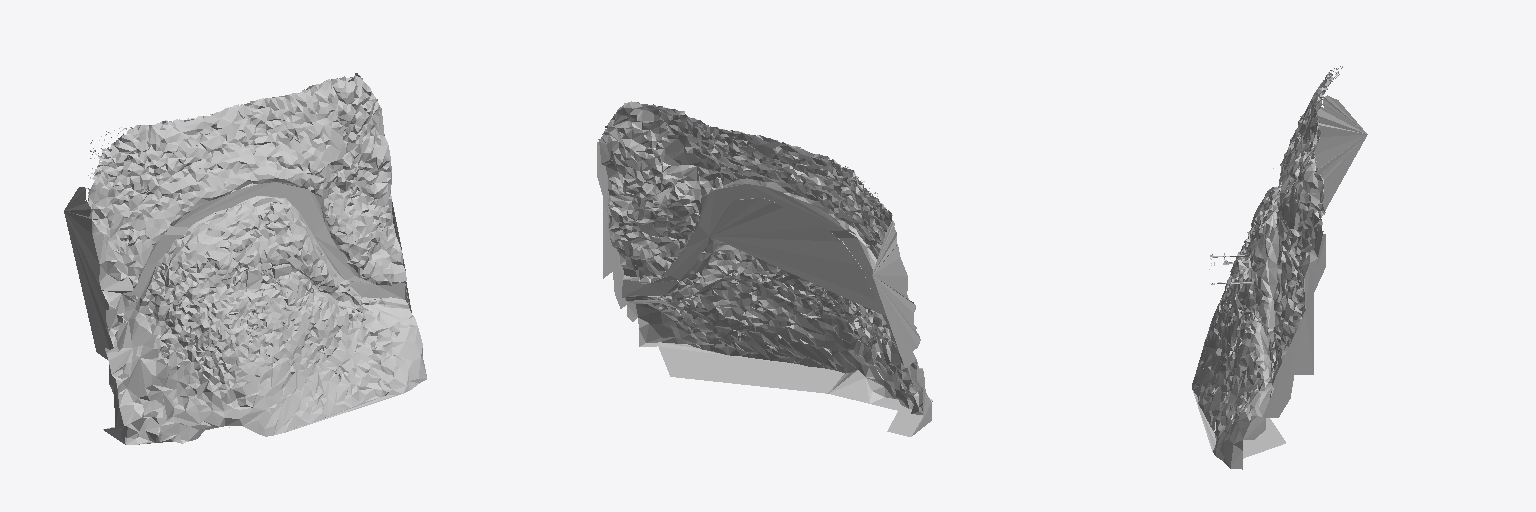
The picture shows the model from 3 angles: view 1: azimuth 30°, elevation 25°; view 2: azimuth 150°, elevation 25°; view 3: azimuth 270°, elevation 25°; orthographic projection.
Visible parts, largest first — view 1: [number redacted]_RC_017_LOD1; view 2: [number redacted]_RC_017_LOD1; view 3: [number redacted]_RC_017_LOD1.
Part boxes in pixels (x1,y1,x2,y2): [number redacted]_RC_017_LOD1: (64,73,426,444); [number redacted]_RC_017_LOD1: (597,101,932,436); [number redacted]_RC_017_LOD1: (1192,66,1367,469).
Bounding box in the file's own units: 168 × 153 × 85.88.